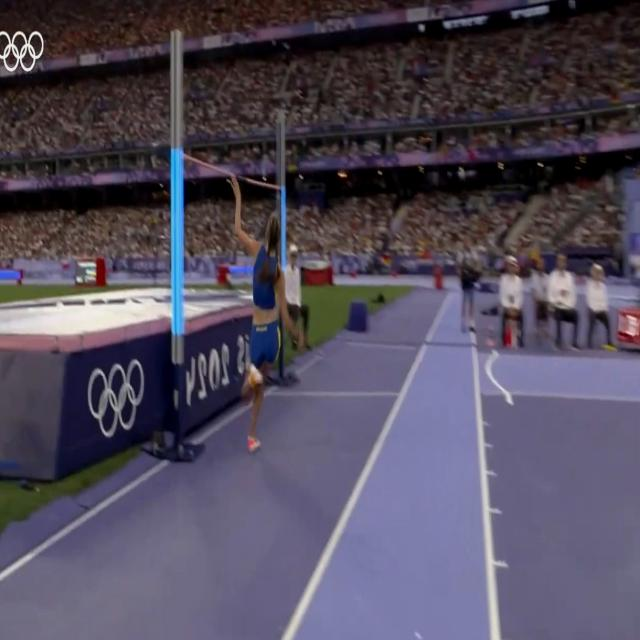jump: (228, 172, 304, 452)
